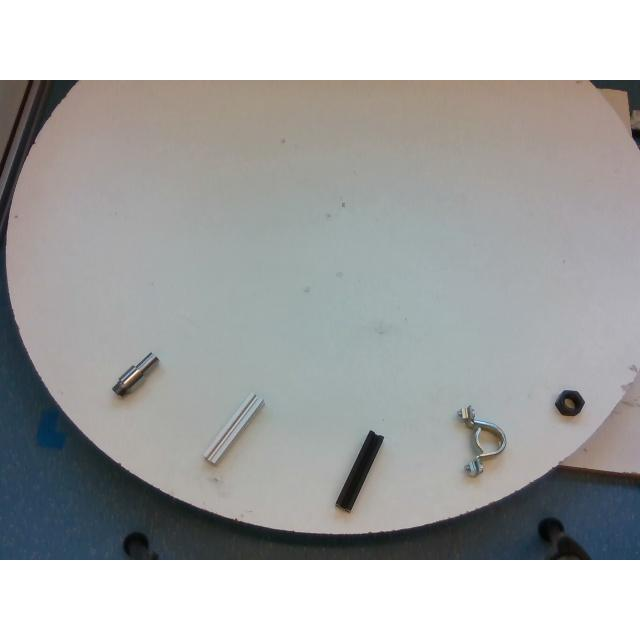Axis2: (112, 352, 158, 396)
F20_20_B: (336, 428, 384, 514)
F20_20_G: (202, 393, 262, 463)
Housing: (458, 408, 506, 472)
M20: (554, 390, 582, 414)
